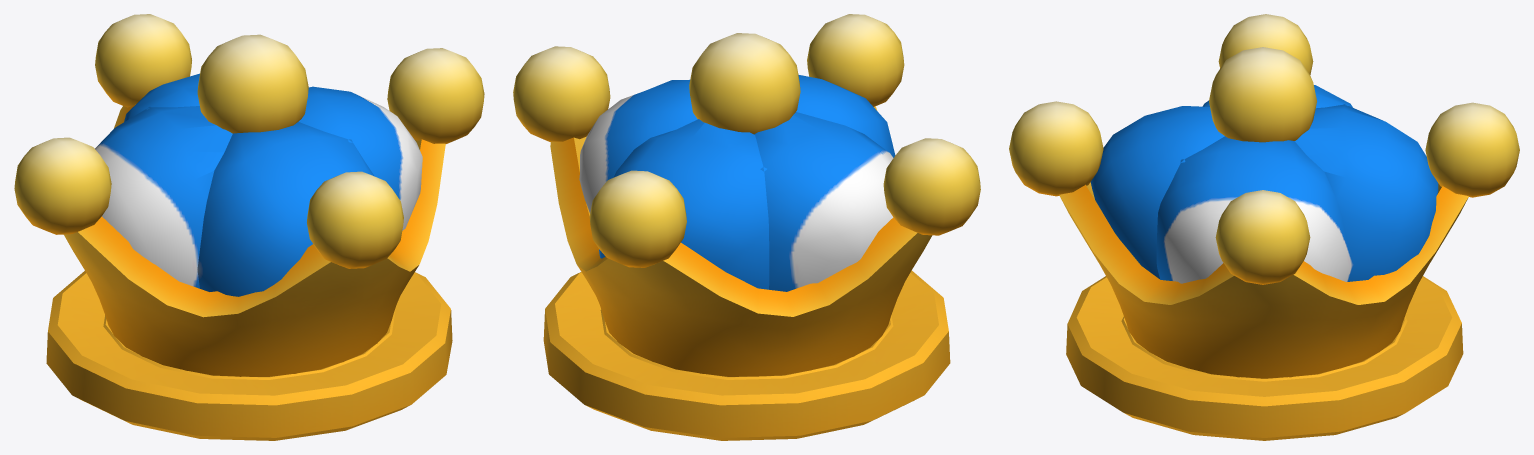
Rendered from crown.fbx.
3 views of the same model, side by side, from view 1: azimuth 30°, elevation 25°; view 2: azimuth 150°, elevation 25°; view 3: azimuth 270°, elevation 25° (orthographic). The views are drawn at different scales.
Parts seen in each view (by area): view 1: crown; view 2: crown; view 3: crown.
Boxes of the visible parts, bbox=[...] form: crown: bbox=[14, 14, 484, 440]; crown: bbox=[513, 14, 980, 440]; crown: bbox=[1009, 14, 1519, 440].
Size of the model in its own units: 83.59 by 56.2 by 83.59.
